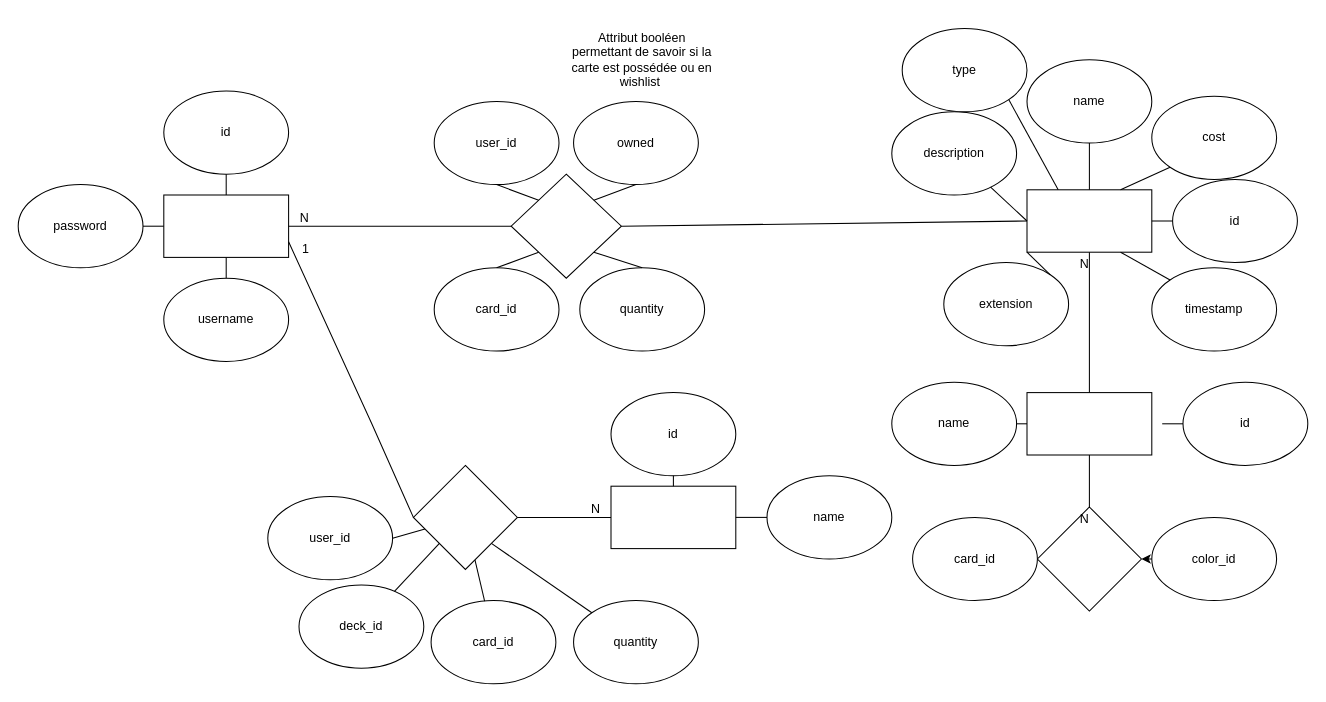
Some shapes in this 1326 by 702 pixel diagram are drawn without their labels. The box of each missing label's shape, as (x1, y1, x2, y2) in pixels:
Cards: (1026, 189, 1152, 252)
cards_color: (1036, 506, 1141, 611)
Color: (1026, 392, 1152, 455)
Decks: (610, 485, 736, 549)
User: (163, 194, 289, 257)
user_card: (510, 173, 621, 278)
User_Deck: (412, 464, 517, 569)
